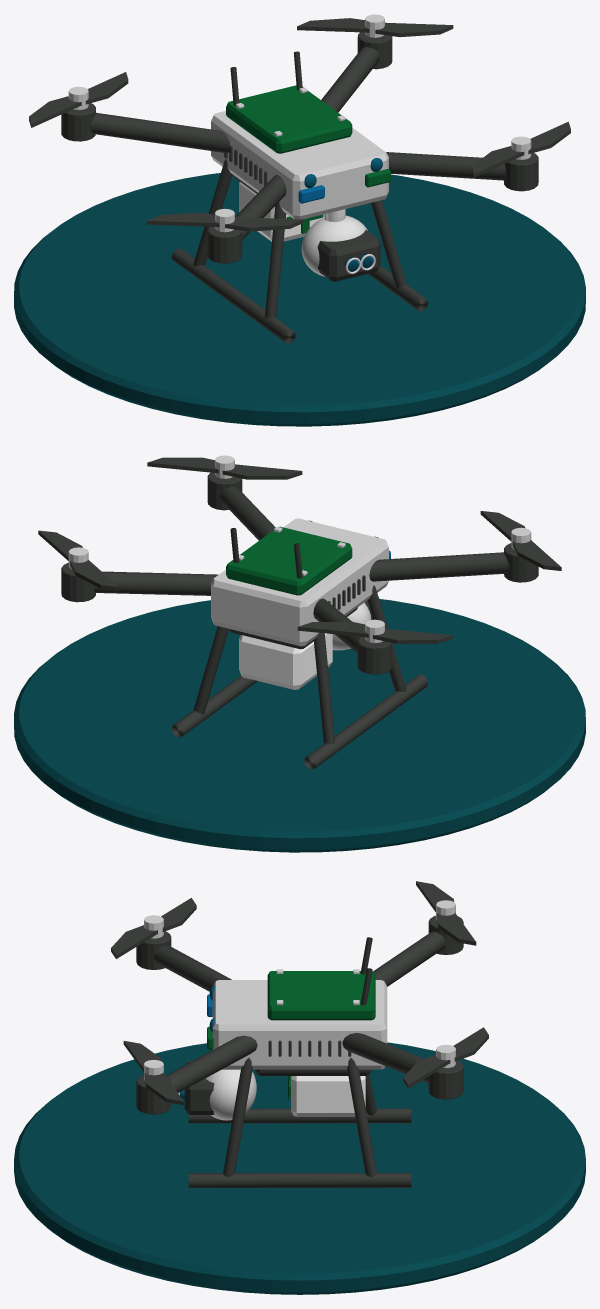
The model's file is brinc-responder.glb.
3 views of the same model, one above another, from view 1: azimuth 30°, elevation 25°; view 2: azimuth 150°, elevation 25°; view 3: azimuth 270°, elevation 25° (orthographic).
Parts seen in each view (by area): view 1: pedestal, body; view 2: pedestal, body; view 3: pedestal, body.
Boxes of the visible parts, bbox=[...] form: pedestal: bbox=[14, 173, 585, 426]; body: bbox=[29, 14, 570, 343]; pedestal: bbox=[14, 599, 585, 852]; body: bbox=[38, 455, 561, 769]; pedestal: bbox=[14, 1042, 585, 1294]; body: bbox=[111, 881, 488, 1187].
Bounding box in the file's own units: 4.4 × 1.89 × 4.4.
